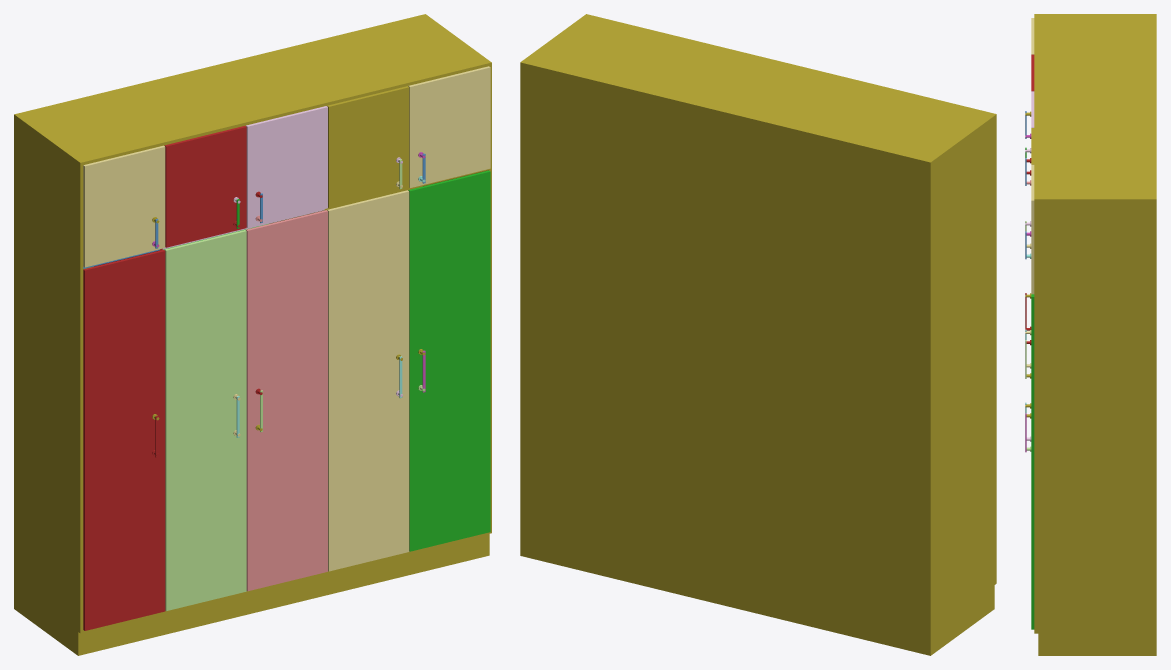
The picture shows the model from 3 angles, left to right: view 1: azimuth 30°, elevation 25°; view 2: azimuth 150°, elevation 25°; view 3: azimuth 270°, elevation 25°; orthographic projection. The views are drawn at different scales.
Visible parts, largest first — view 1: Node84, Node66, Node58, Node64, Node57, Node61, Node65, Node63, Node59, Node60, Node62; view 2: Node84; view 3: Node84, Node58, Node59.
Part boxes in pixels (x1=…): Node84: x1=14, y1=14, x2=491, y2=655; Node66: x1=83, y1=249, x2=165, y2=630; Node58: x1=408, y1=170, x2=490, y2=551; Node64: x1=164, y1=230, x2=246, y2=611; Node57: x1=327, y1=190, x2=409, y2=571; Node61: x1=246, y1=210, x2=327, y2=591; Node65: x1=83, y1=145, x2=165, y2=267; Node63: x1=164, y1=126, x2=246, y2=247; Node59: x1=408, y1=66, x2=490, y2=187; Node60: x1=327, y1=86, x2=409, y2=207; Node62: x1=246, y1=106, x2=327, y2=227; Node84: x1=520, y1=14, x2=996, y2=655; Node84: x1=1034, y1=14, x2=1156, y2=655; Node58: x1=1031, y1=294, x2=1034, y2=629; Node59: x1=1031, y1=164, x2=1034, y2=294.
Size of the model in its own units: 2150 by 2470 by 645.
